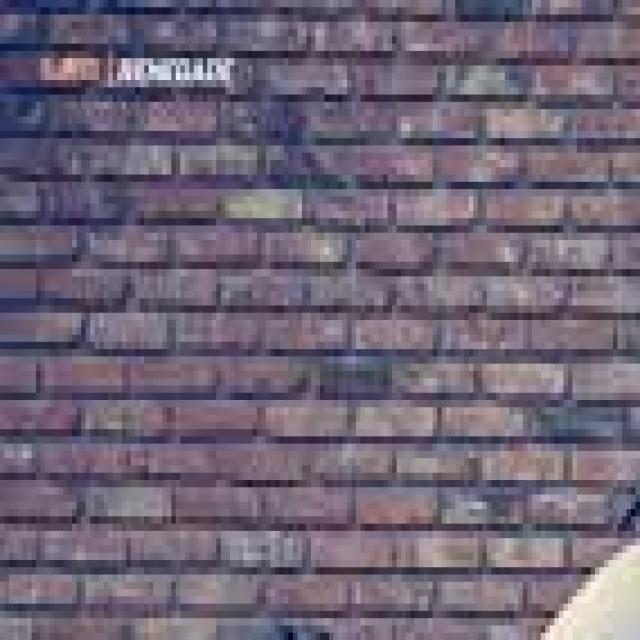bike: (49, 378, 640, 640)
